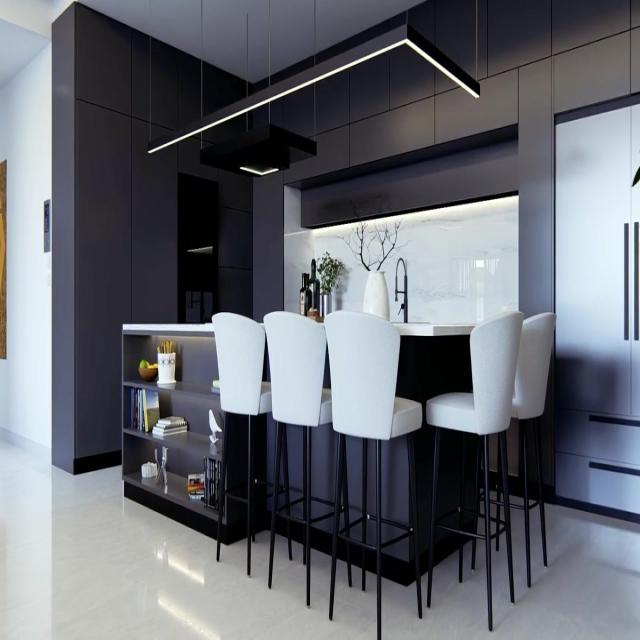obstacle: (552, 90, 640, 522), (323, 309, 423, 639), (425, 309, 525, 631), (262, 309, 352, 606), (471, 310, 556, 588), (211, 311, 292, 576)
